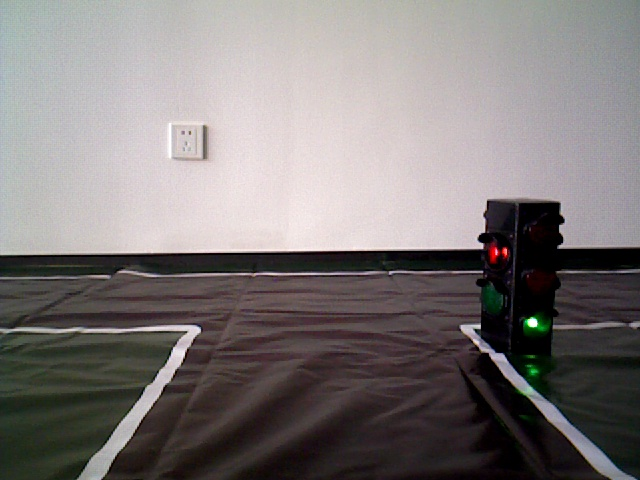green: (486, 203, 552, 348)
